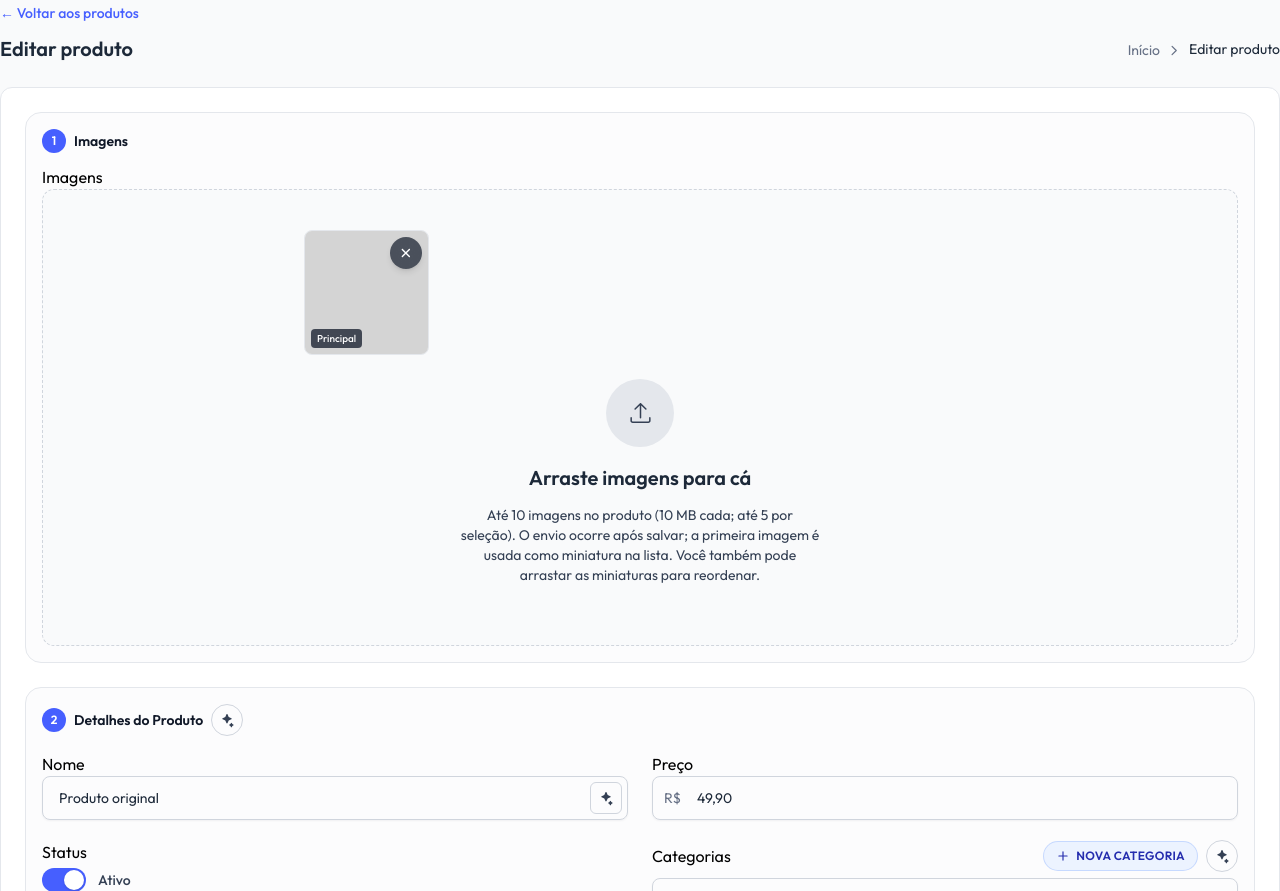
Scenario: ProductForm AI suggestions behavior › requests only the clicked field for targeted AI buttons
What coordinates should you click on to do the following:
click the button named "Sugestao por IA para nome"
I would click on:
 (606, 798)
Its box is [590,782,622,814].
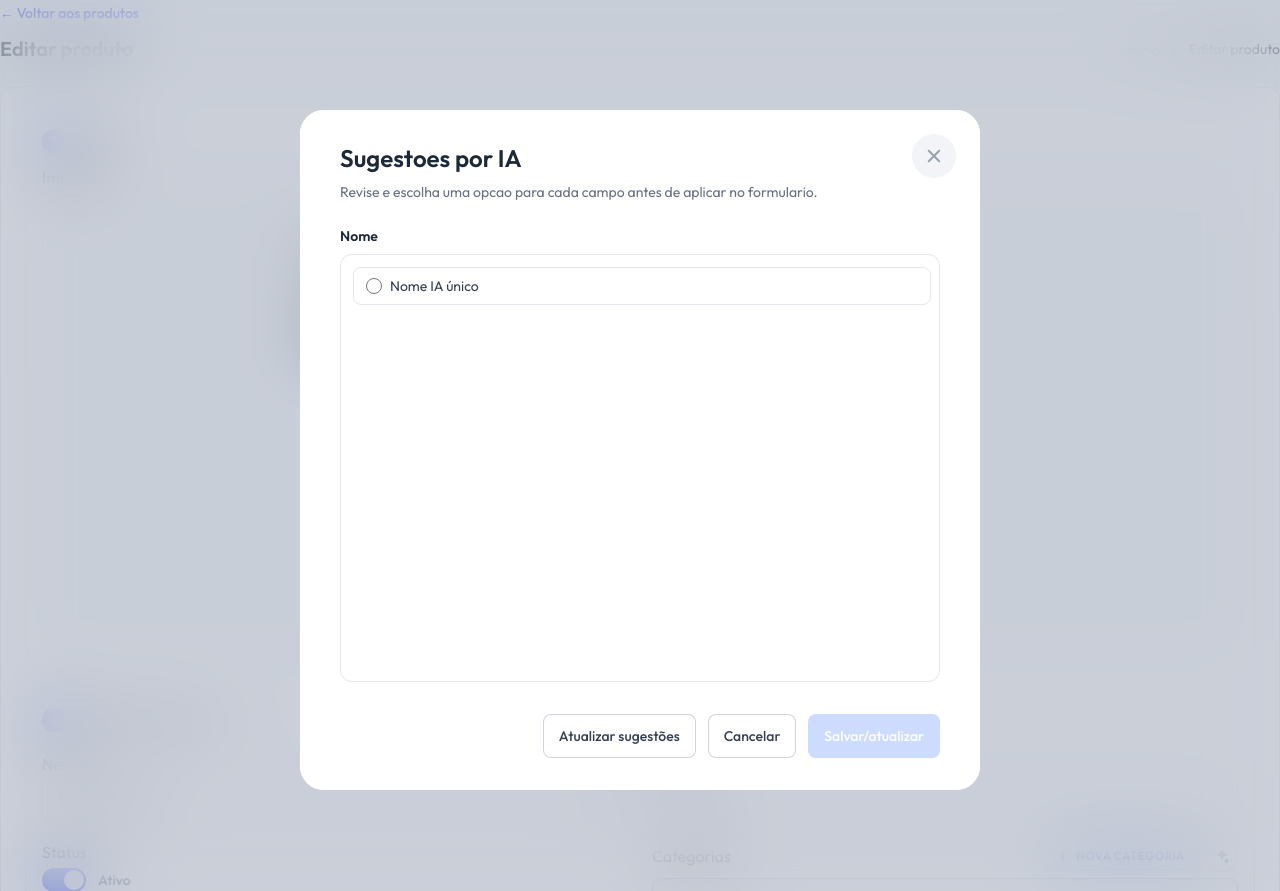
expect the heading "Sugestoes por IA" is shown: met, box [340,143,522,173]
